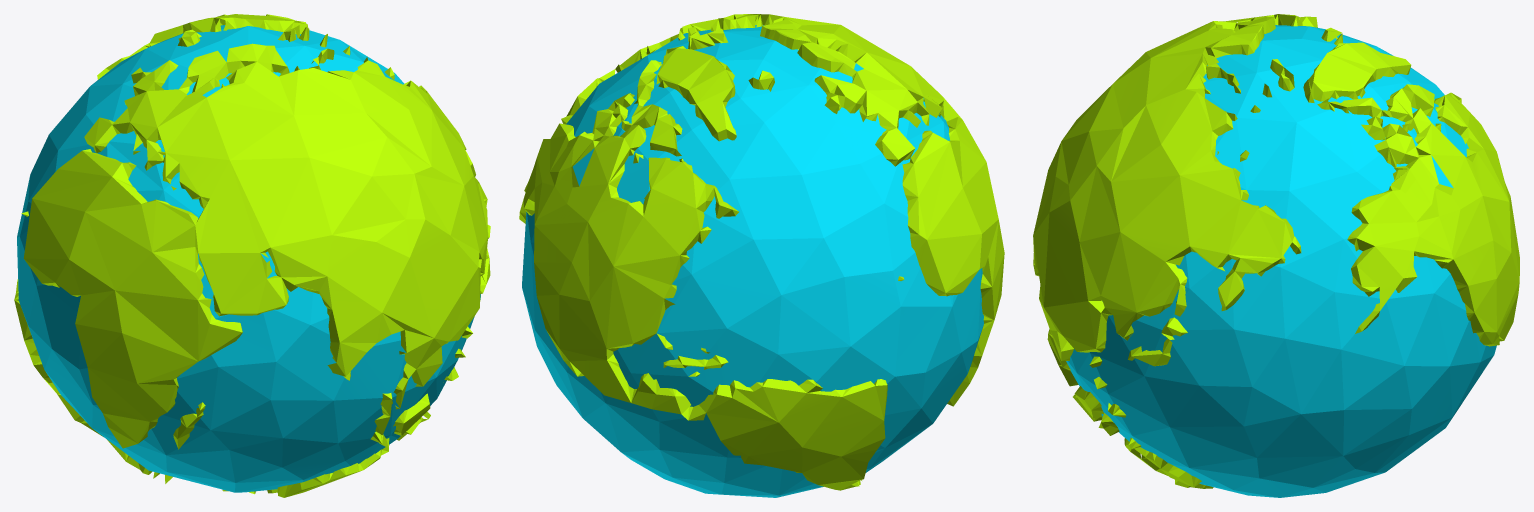
File: earth.gltf
The picture shows the model from 3 angles, left to right: view 1: azimuth 30°, elevation 25°; view 2: azimuth 150°, elevation 25°; view 3: azimuth 270°, elevation 25°; orthographic projection.
Visible parts, largest first — view 1: earth; view 2: earth; view 3: earth.
Part boxes in pixels (x1,y1,x2,y2): earth: [14, 14, 490, 497]; earth: [519, 14, 1004, 497]; earth: [1033, 14, 1519, 497].
Size of the model in its own units: 1.95 by 2.01 by 1.99.
